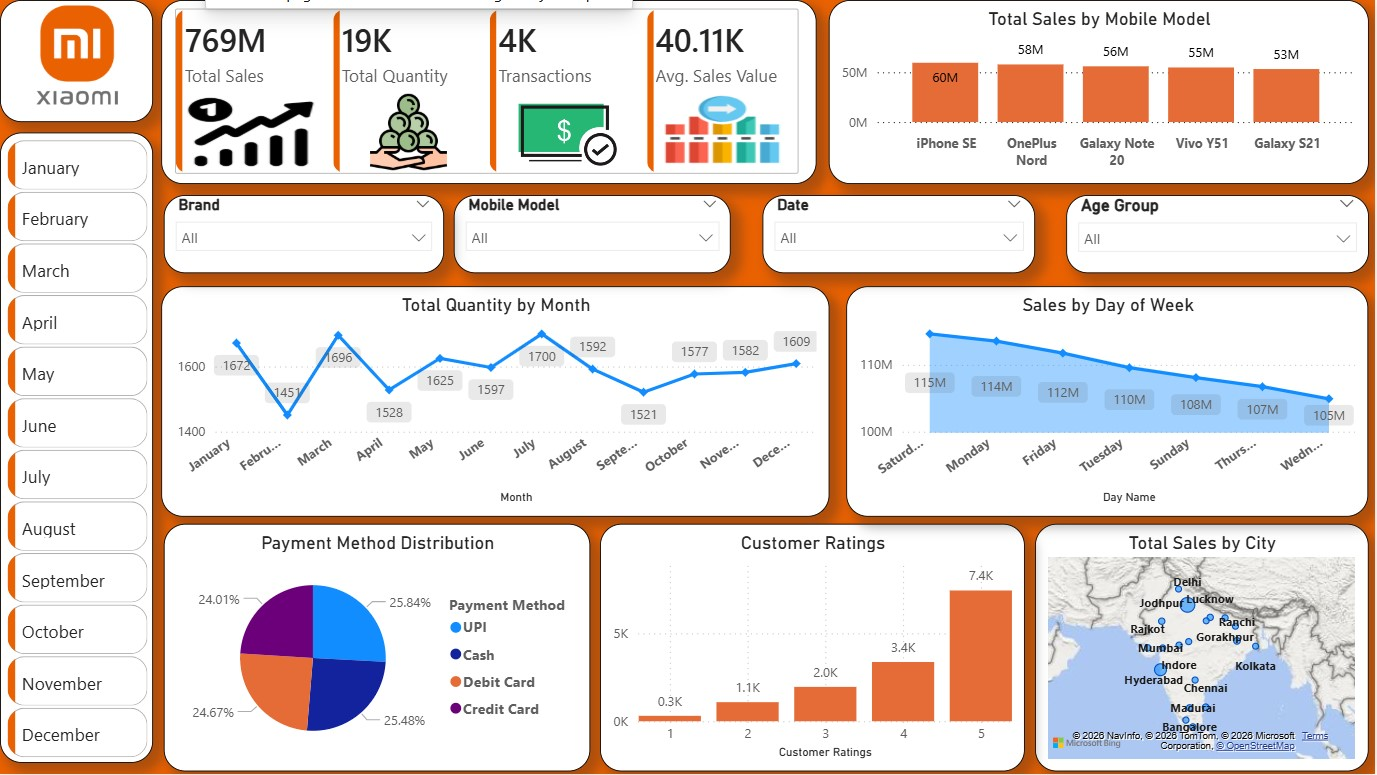

Layout of this report page (visuals, bound fields, positions):
{"tool":"powerbi","page":{"name":"Page 1","canvas":[1280,720],"ordinal":0},"visuals":[{"type":"shape","box":[0,0,142.5,113.8],"z":0},{"type":"image","box":[7.5,0,130,102.5],"z":1000},{"type":"shape","box":[0,123.8,142.5,586.2],"z":2000},{"type":"advancedSlicerVisual","fields":{"Values":["Sales_Data.Date.Variation.Date Hierarchy.Month"]},"box":[2.5,125,140,585],"z":3000},{"type":"cardVisual","fields":{"Data":["Sales_Data.Total_Sales","Sales_Data.Total Quantity","Sales_Data.Total Transaction","Sales_Data.Average"]},"box":[149.6,0,609.3,171.5],"z":4000},{"type":"map","fields":{"Category":["Sales_Data.City"],"Size":["Sales_Data.Total Sales"]},"box":[963.3,487.1,310.1,230.5],"z":5000},{"type":"lineChart","fields":{"Category":["Sales_Data.Date.Variation.Date Hierarchy.Month","Sales_Data.Date.Variation.Date Hierarchy.Day"],"Y":["Sales_Data.Total Quantity"]},"box":[149.6,266.2,621.6,214.1],"z":6000},{"type":"clusteredColumnChart","fields":{"Category":["Sales_Data.Mobile Model"],"Y":["Sales_Data.Total Sales"]},"box":[771.2,0,502.2,171.5],"z":7000},{"type":"pieChart","title":"Payment Method Distribution","fields":{"Category":["Sales_Data.Payment Method"],"Y":["Sales_Data.Transaction"]},"box":[152.3,486.8,396.6,230.5],"z":8000},{"type":"columnChart","title":"Customer Ratings","fields":{"Category":["Sales_Data.Customer Ratings"],"Y":["Sum(Sales_Data.Customer Ratings)"]},"box":[558.5,487.1,395.2,230.5],"z":9000},{"type":"stackedAreaChart","title":"Sales by Day of Week","fields":{"Category":["Sales_Data.Day Name"],"Y":["Sales_Data.Total Sales"]},"box":[787.7,266.2,485.8,214.1],"z":10000},{"type":"slicer","fields":{"Values":["Sales_Data.Mobile Model"]},"box":[422.6,181.1,258,72.7],"z":11000},{"type":"slicer","fields":{"Values":["Sales_Data.Age Group"]},"box":[992.1,181.1,281.3,72.7],"z":12000},{"type":"slicer","fields":{"Values":["Sales_Data.Brand"]},"box":[152.3,181.1,260.7,72.7],"z":13000},{"type":"slicer","fields":{"Values":["Sales_Data.Date.Variation.Date Hierarchy.Month","Sales_Data.Date.Variation.Date Hierarchy.Day"]},"box":[709.4,181.1,253.9,72.7],"z":14000}]}

Visuals, with their boxes in screenshot pixels (x1, y1, x2, y2), scaled from the page's 1280x720 canvas onto the 1377x775 screenshot:
shape: x1=0, y1=0, x2=153, y2=122
image: x1=8, y1=0, x2=148, y2=110
shape: x1=0, y1=133, x2=153, y2=764
advancedSlicerVisual - Sales_Data.Date.Variation.Date Hierarchy.Month: x1=3, y1=135, x2=153, y2=764
cardVisual - Sales_Data.Total_Sales x Sales_Data.Total Quantity: x1=161, y1=0, x2=816, y2=185
map - Sales_Data.City x Sales_Data.Total Sales: x1=1036, y1=524, x2=1370, y2=772
lineChart - Sales_Data.Date.Variation.Date Hierarchy.Month x Sales_Data.Date.Variation.Date Hierarchy.Day: x1=161, y1=287, x2=830, y2=517
clusteredColumnChart - Sales_Data.Mobile Model x Sales_Data.Total Sales: x1=830, y1=0, x2=1370, y2=185
"Payment Method Distribution" pieChart: x1=164, y1=524, x2=590, y2=772
"Customer Ratings" columnChart: x1=601, y1=524, x2=1026, y2=772
"Sales by Day of Week" stackedAreaChart: x1=847, y1=287, x2=1370, y2=517
slicer - Sales_Data.Mobile Model: x1=455, y1=195, x2=732, y2=273
slicer - Sales_Data.Age Group: x1=1067, y1=195, x2=1370, y2=273
slicer - Sales_Data.Brand: x1=164, y1=195, x2=444, y2=273
slicer - Sales_Data.Date.Variation.Date Hierarchy.Month x Sales_Data.Date.Variation.Date Hierarchy.Day: x1=763, y1=195, x2=1036, y2=273
